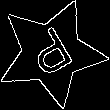P_SE: (22, 22, 80, 84)
